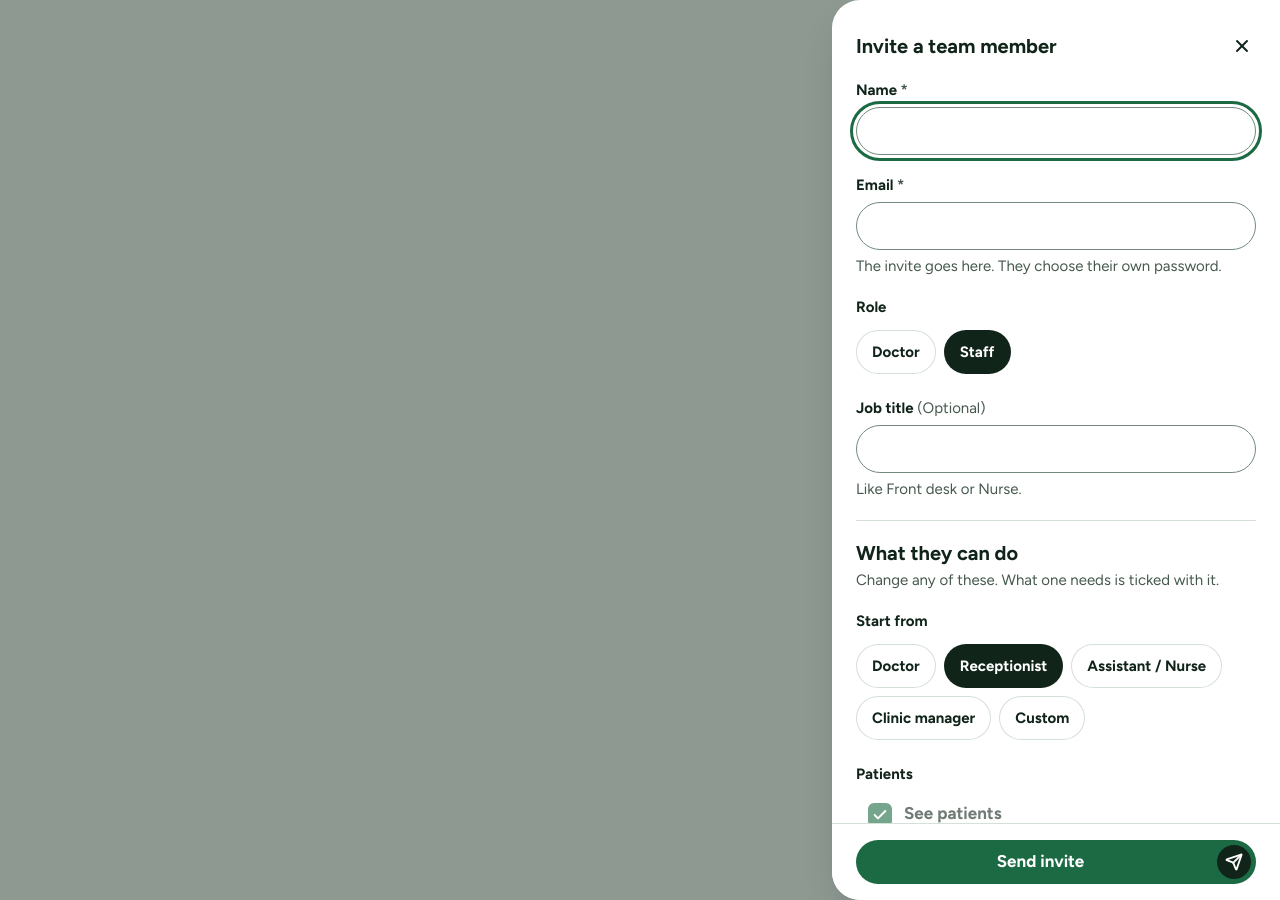
Test case: InviteSheet (plan §8.4, D89) › says why it could not invite, and keeps what was typed
This screenshot has width=1280, height=900.
Type "Meera Pillai" into the field labelled "Name *" at coordinates (1056, 131), box 856,107 -> 1256,155
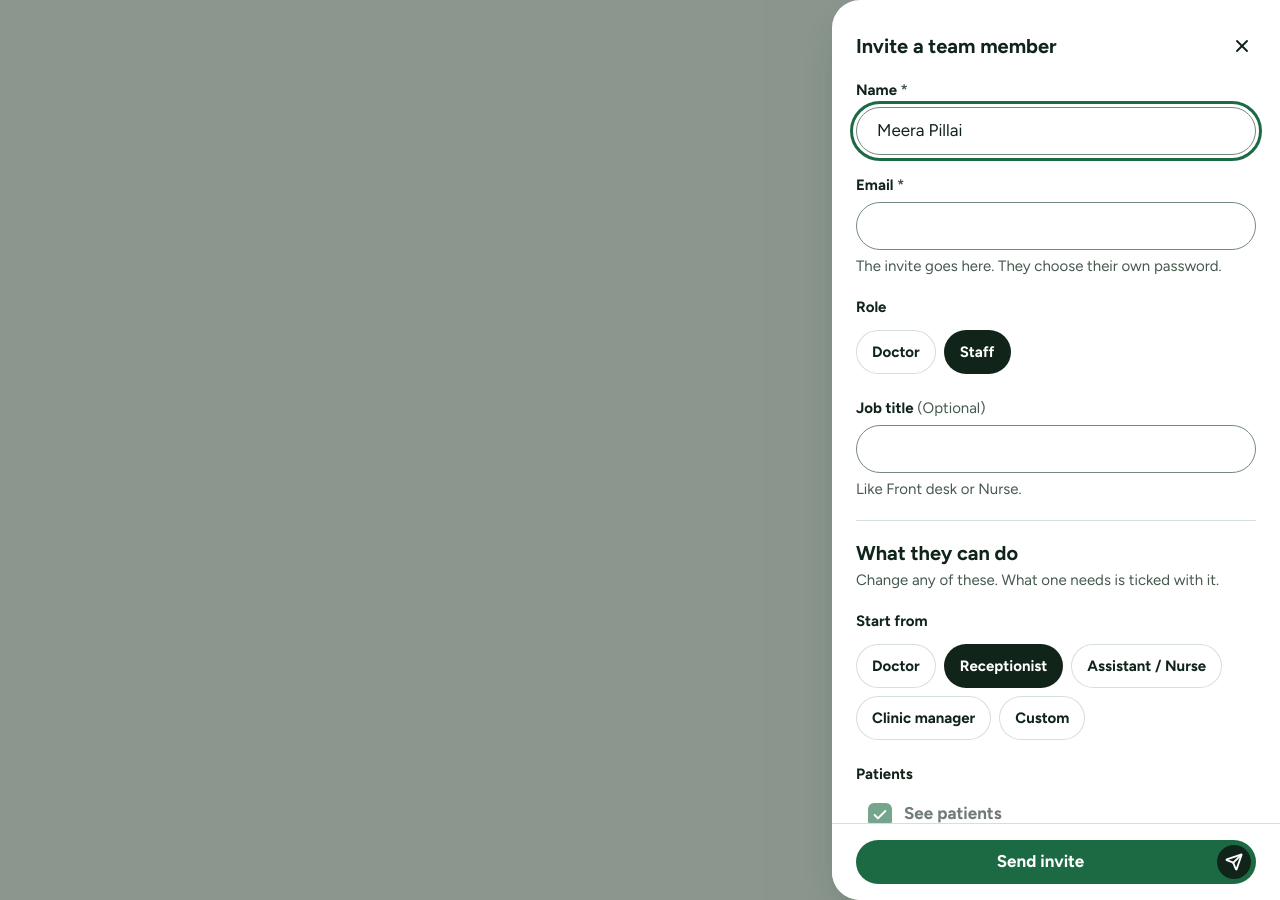
Type "meera@example.com" into the field labelled "Email *" at coordinates (1056, 226), box 856,202 -> 1256,250
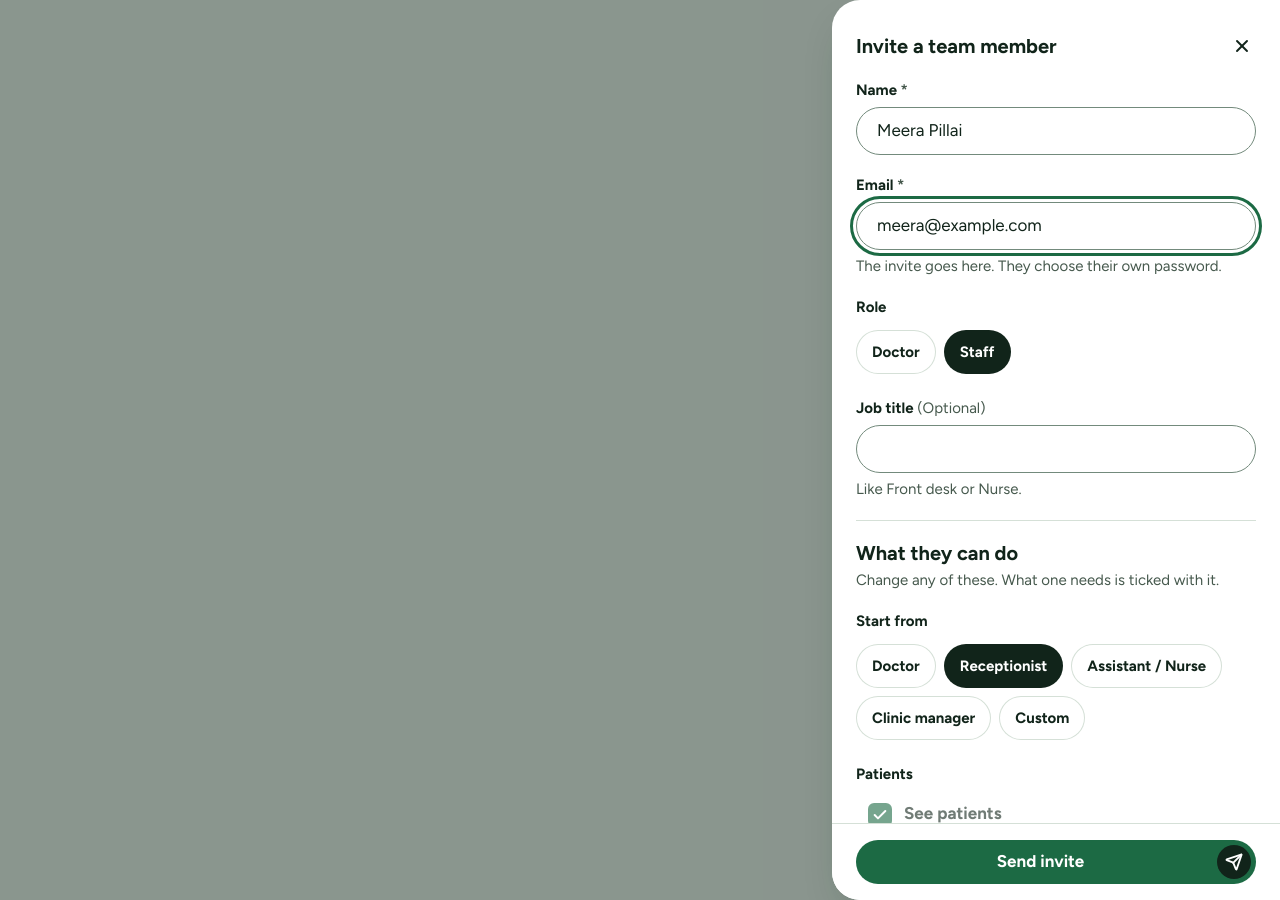
Click the button "Send invite" at coordinates (1056, 862), box 856,840 -> 1256,884
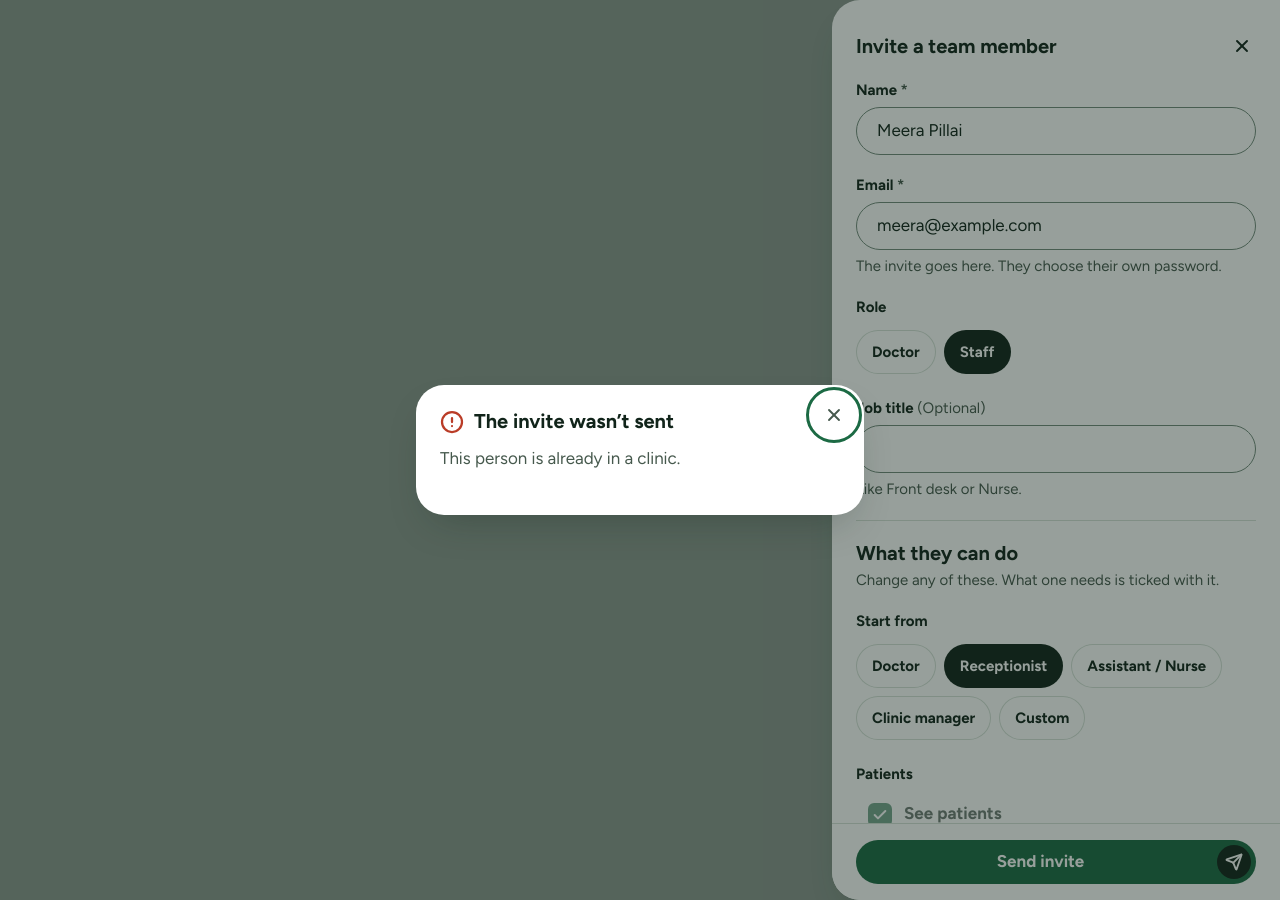
Check: the dialog "The invite wasn’t sent" shows "already in a clinic", box 440,448 -> 680,468
